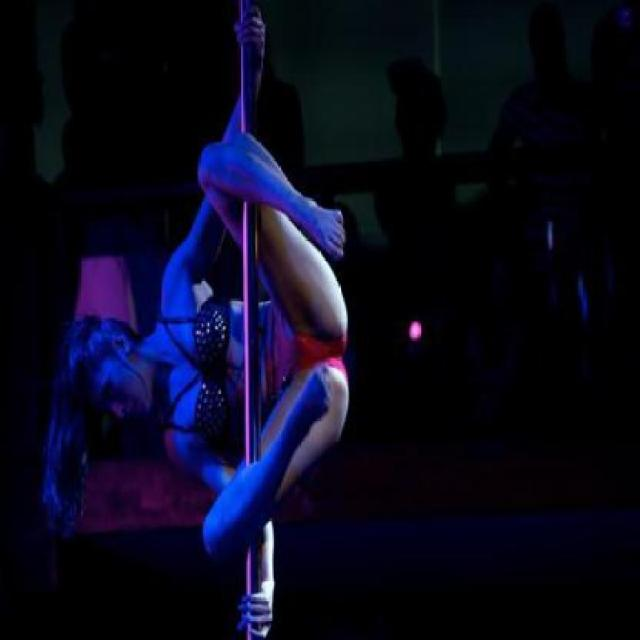obstacle: (51, 2, 346, 633)
